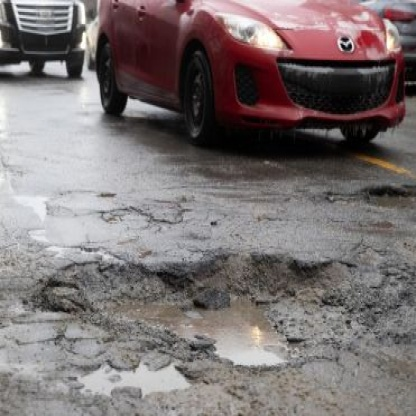pothole: (12, 231, 394, 389)
